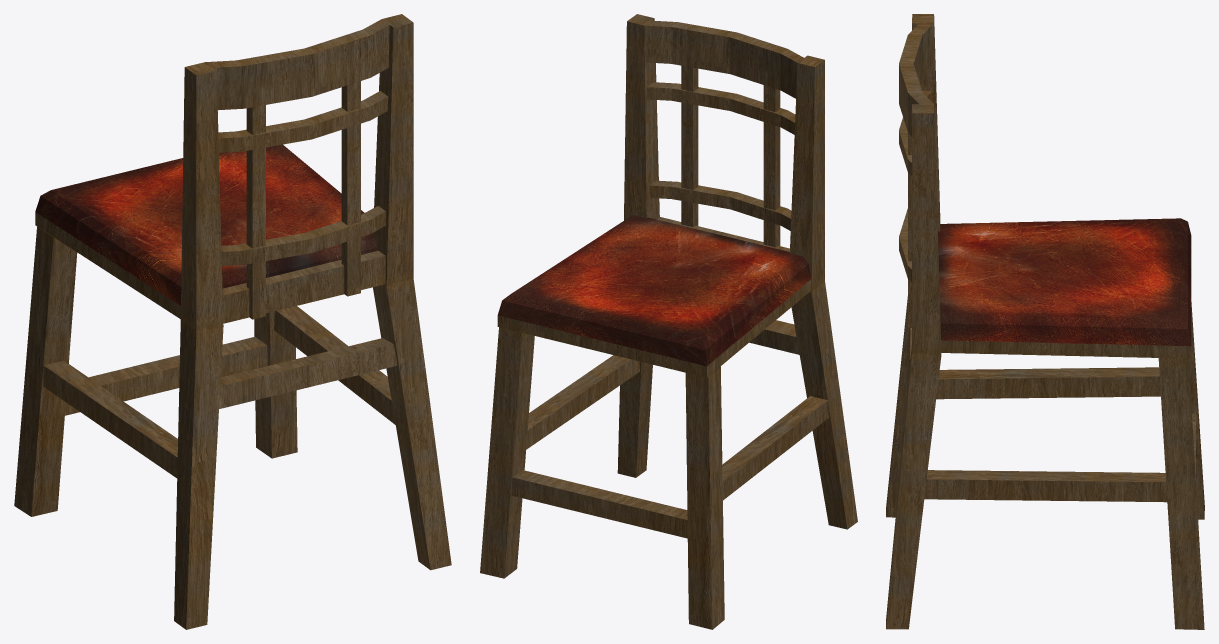
File: P_Chair.fbx
The picture shows the model from 3 angles, left to right: view 1: azimuth 30°, elevation 25°; view 2: azimuth 150°, elevation 25°; view 3: azimuth 270°, elevation 25°; orthographic projection. The views are drawn at different scales.
Parts seen in each view (by area): view 1: Empty_Mesh; view 2: Empty_Mesh; view 3: Empty_Mesh.
Boxes of the visible parts, box(x1,y1,x2,y2) form: Empty_Mesh: box(14, 14, 451, 629); Empty_Mesh: box(480, 14, 857, 629); Empty_Mesh: box(886, 14, 1204, 629).
Bounding box in the file's own units: 0.4229 × 0.8088 × 0.4631.
